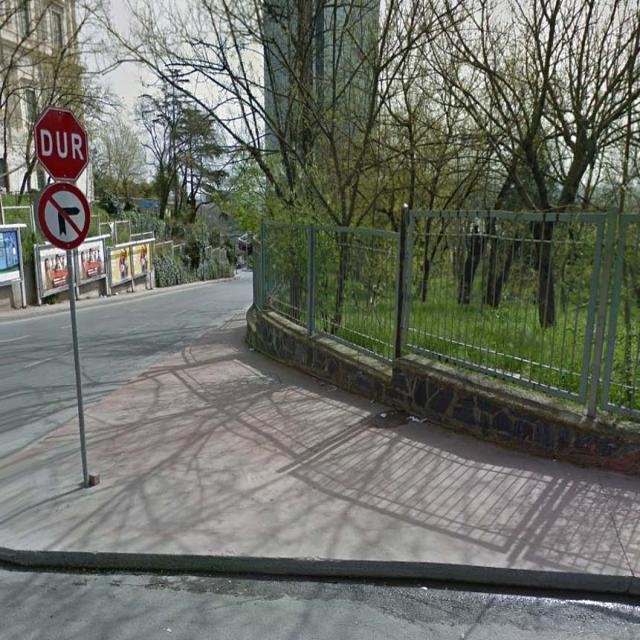dur: (34, 108, 89, 180)
sagadonulmez: (37, 183, 91, 250)
